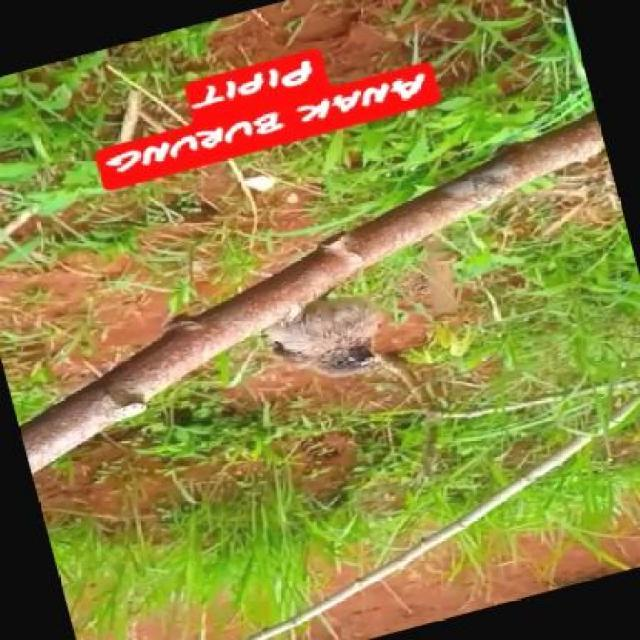Bird: (254, 276, 386, 389)
